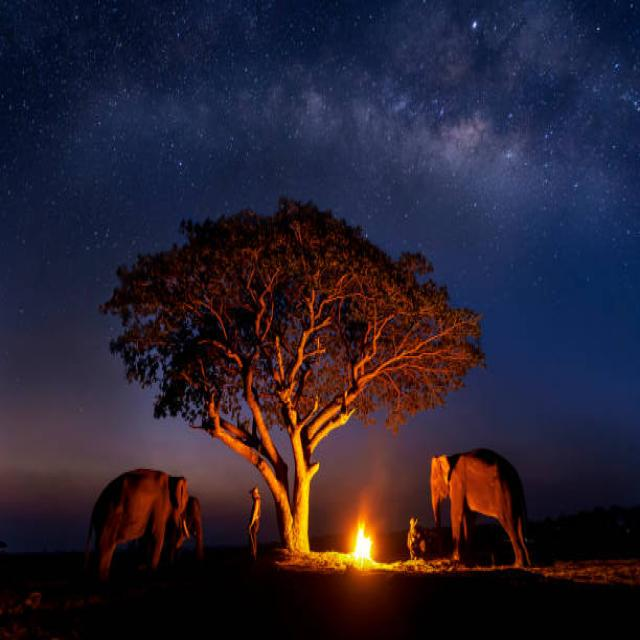Elephant: (90, 447, 214, 588), (420, 440, 537, 583)
